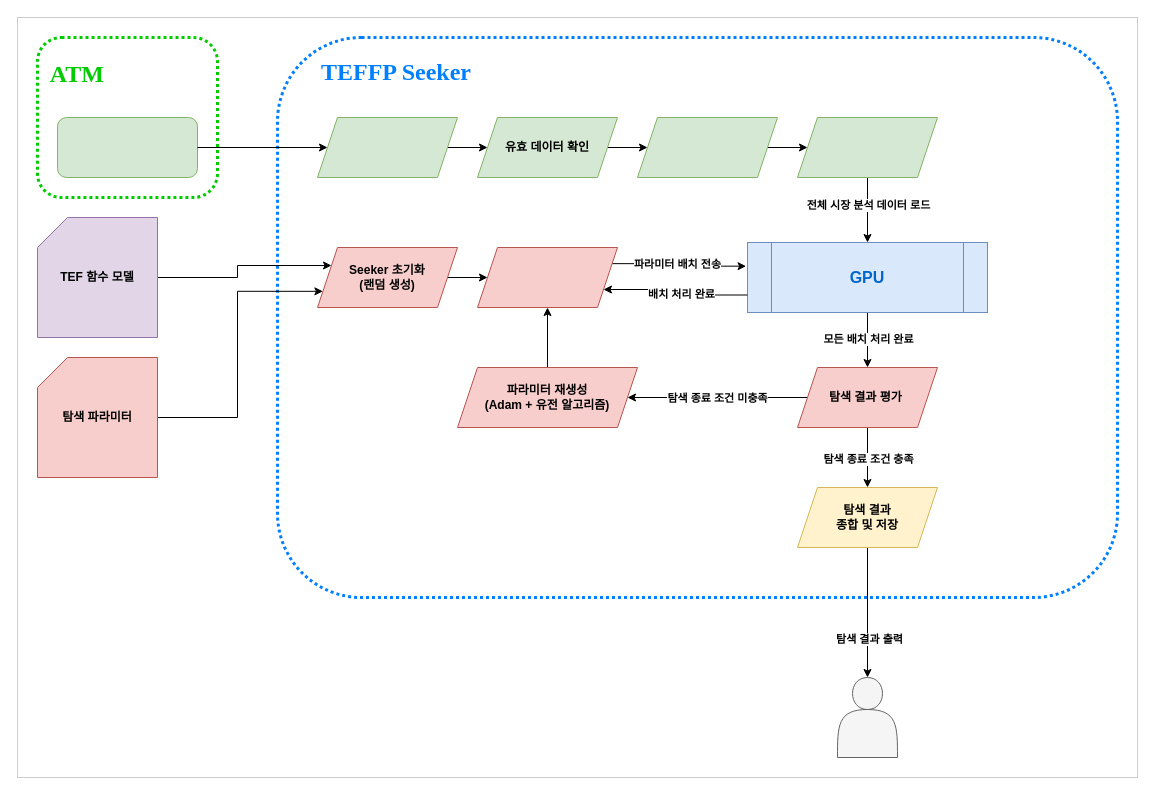
Image size: 1155x795. Some labels were removed from this diagram. Here are the shapes that lost their labels. From the top down, the centre of each, then its label:
At point (127, 147): "시장 분석 데이터".
At point (387, 147): "데이터 키 검증".
At point (707, 147): "Nan 갭 처리".
At point (867, 147): "텐서화".
At point (547, 277): "파라미터 배치 생성".
